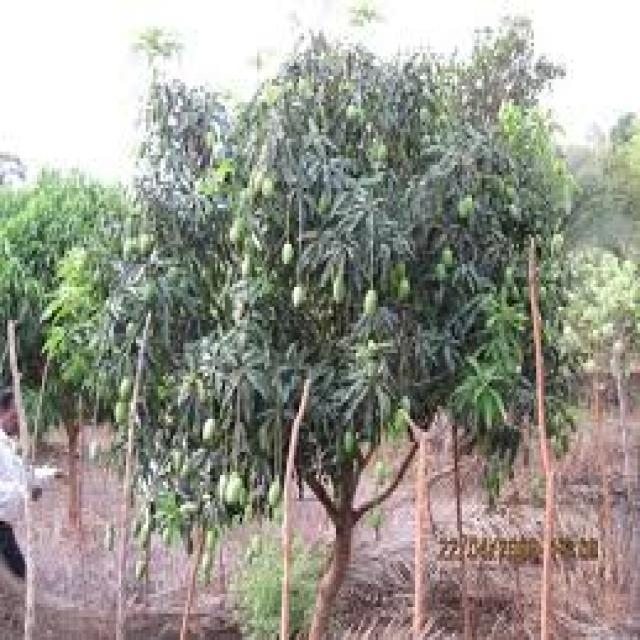Tree: (125, 35, 533, 640)
